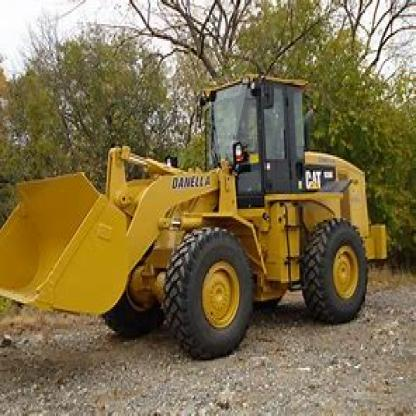bull_dozer/loader/grader: (1, 74, 388, 360)
